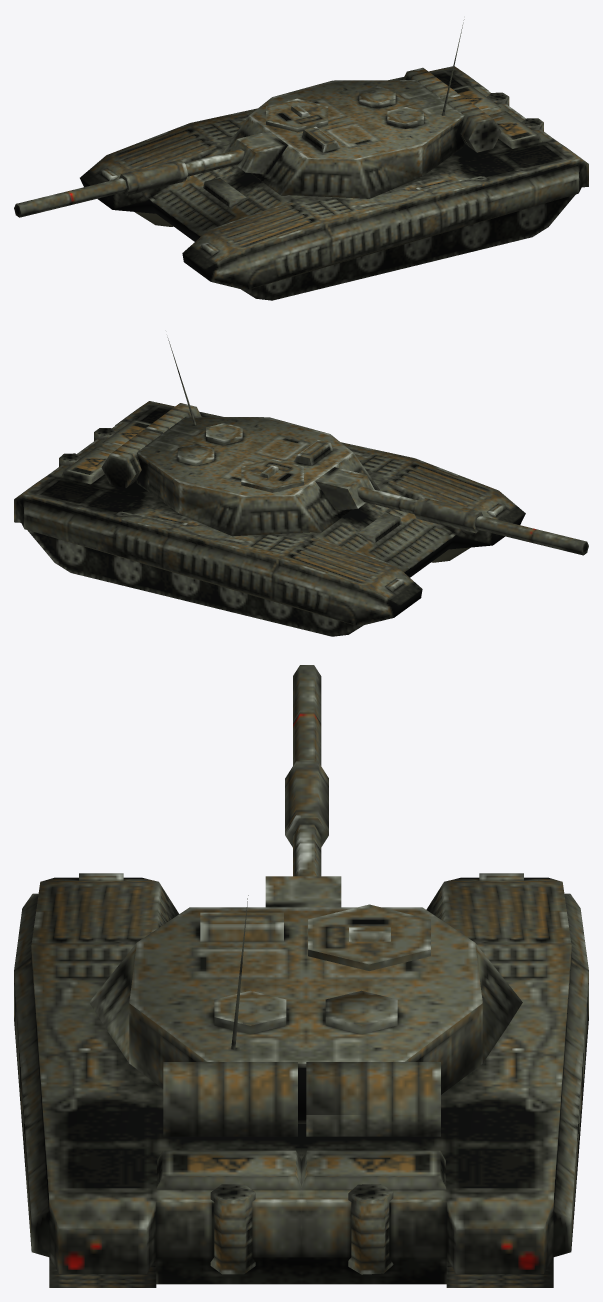
File: tank.glb
3 views of the same model, one above another, from view 1: azimuth 30°, elevation 25°; view 2: azimuth 150°, elevation 25°; view 3: azimuth 270°, elevation 25° (orthographic). The views are drawn at different scales.
Visible parts, largest first — view 1: Body.001, Turret, GunBarrel; view 2: Body.001, Turret, GunBarrel; view 3: Body.001, Turret, GunBarrel.
Part boxes in pixels (x1,y1,x2,y2): Body.001: (80, 66, 588, 300); Turret: (222, 19, 501, 198); GunBarrel: (14, 131, 287, 217); Body.001: (14, 401, 525, 636); Turret: (101, 337, 379, 536); GunBarrel: (315, 467, 588, 555); Body.001: (14, 873, 588, 1287); Turret: (89, 895, 522, 1136); GunBarrel: (265, 665, 341, 907).
Size of the model in its own units: 2.21 by 0.7894 by 1.09.
3 materials, 3 textured.
